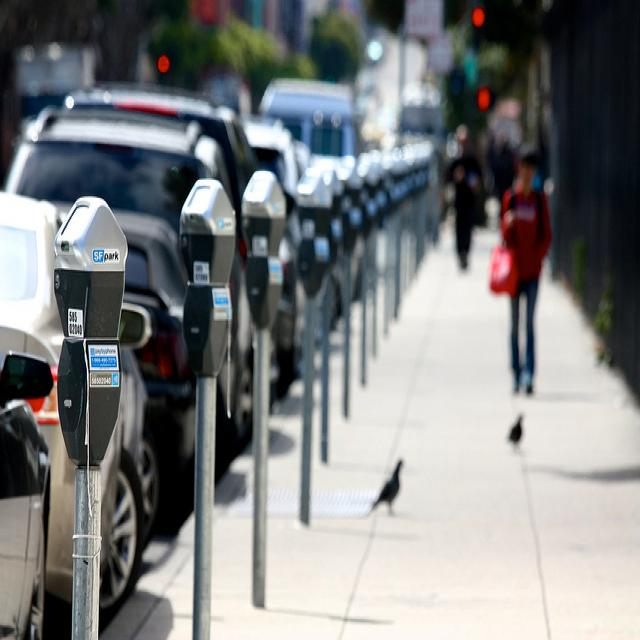Vehicle: (5, 104, 257, 470), (63, 78, 281, 433), (0, 188, 163, 615), (49, 203, 197, 536), (0, 351, 54, 640), (259, 74, 358, 161), (244, 110, 305, 200)
